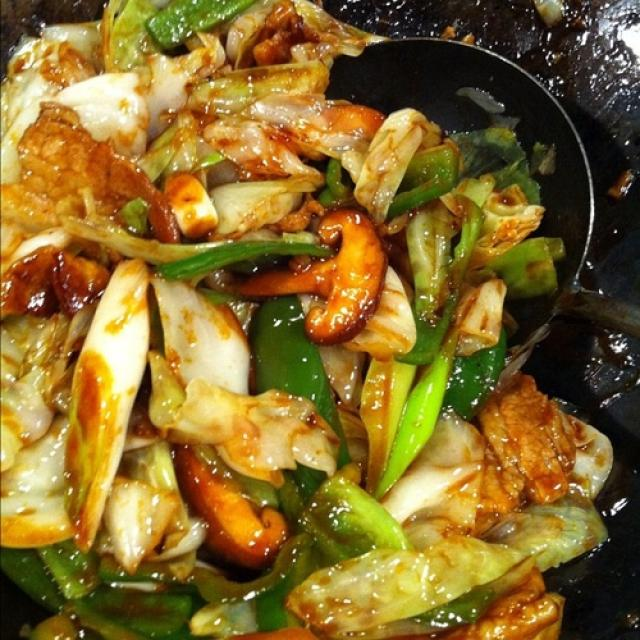猪肉菜式: (22, 23, 603, 634)
